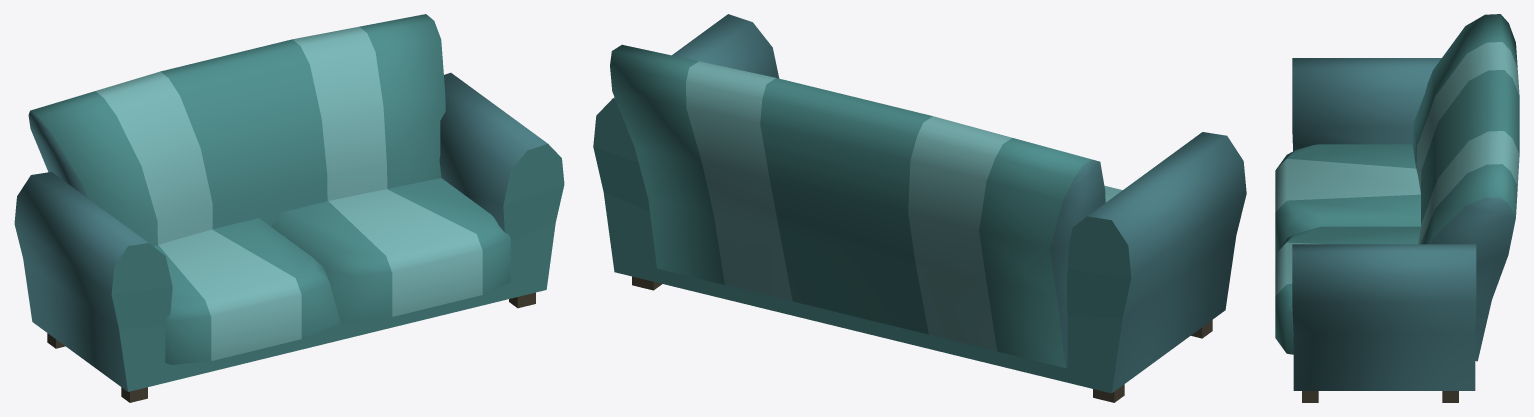
The model's file is Couch1.fbx.
3 renders of one model, left to right at view 1: azimuth 30°, elevation 25°; view 2: azimuth 150°, elevation 25°; view 3: azimuth 270°, elevation 25°, orthographic. The views are drawn at different scales.
Visible parts, largest first — view 1: Couch1; view 2: Couch1; view 3: Couch1.
Part boxes in pixels (bbox=[...]): Couch1: bbox=[14, 14, 564, 402]; Couch1: bbox=[593, 14, 1246, 402]; Couch1: bbox=[1275, 14, 1519, 402].
Bounding box in the file's own units: 841 × 390 × 414.
